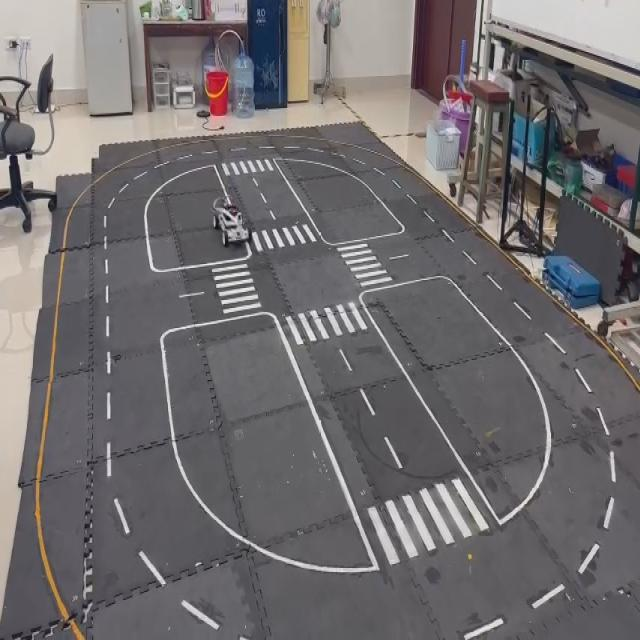SiCo-CAR: (210, 193, 250, 247)
